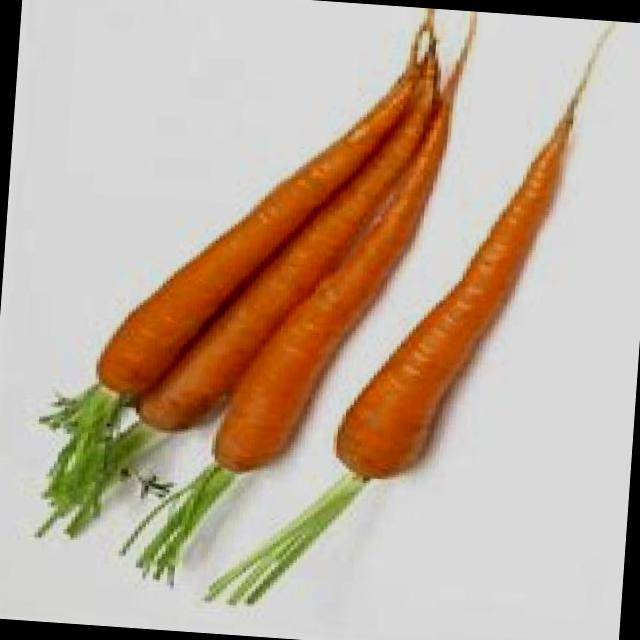carrot: (130, 55, 439, 429), (89, 66, 419, 394), (205, 105, 454, 474), (336, 96, 576, 478)
